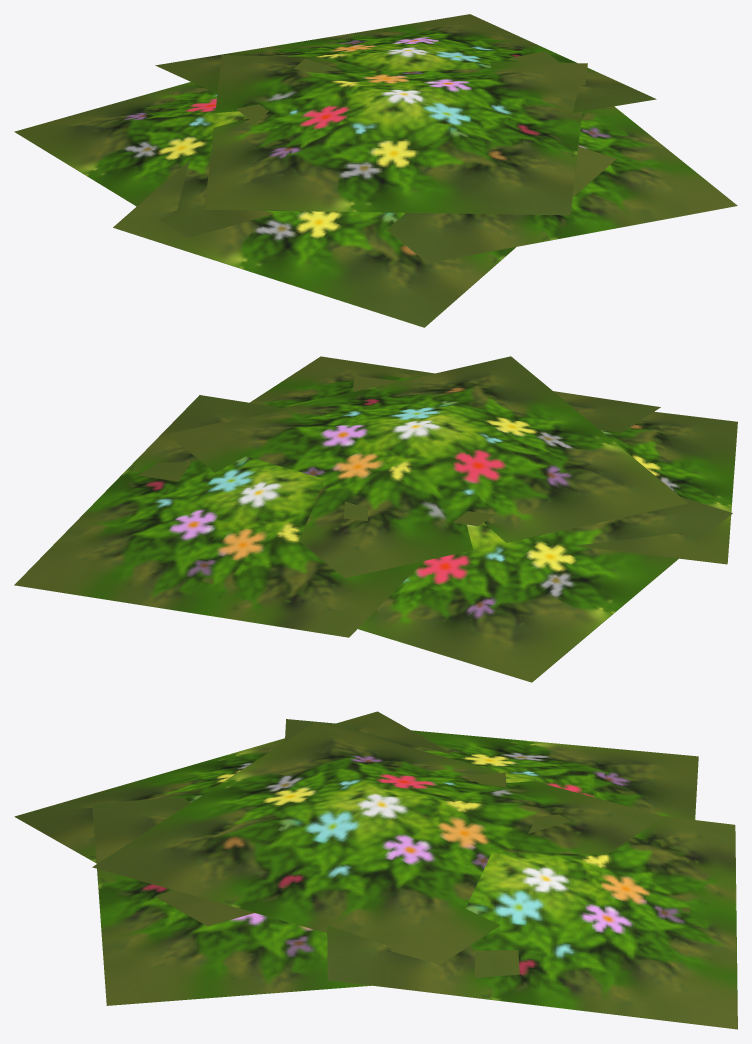
File: sb_obj_nature004_Flower03c.fbx
3 renders of one model, top to bottom at view 1: azimuth 30°, elevation 25°; view 2: azimuth 150°, elevation 25°; view 3: azimuth 270°, elevation 25°, orthographic. The views are drawn at different scales.
Visible parts, largest first — view 1: sb_obj_nature004_Flower03a; view 2: sb_obj_nature004_Flower03a; view 3: sb_obj_nature004_Flower03a.
Part boxes in pixels (x1,y1,x2,y2): sb_obj_nature004_Flower03a: (14, 14, 737, 327); sb_obj_nature004_Flower03a: (14, 356, 737, 682); sb_obj_nature004_Flower03a: (14, 711, 737, 1029).
Size of the model in its own units: 1.62 by 0.2731 by 1.72.
